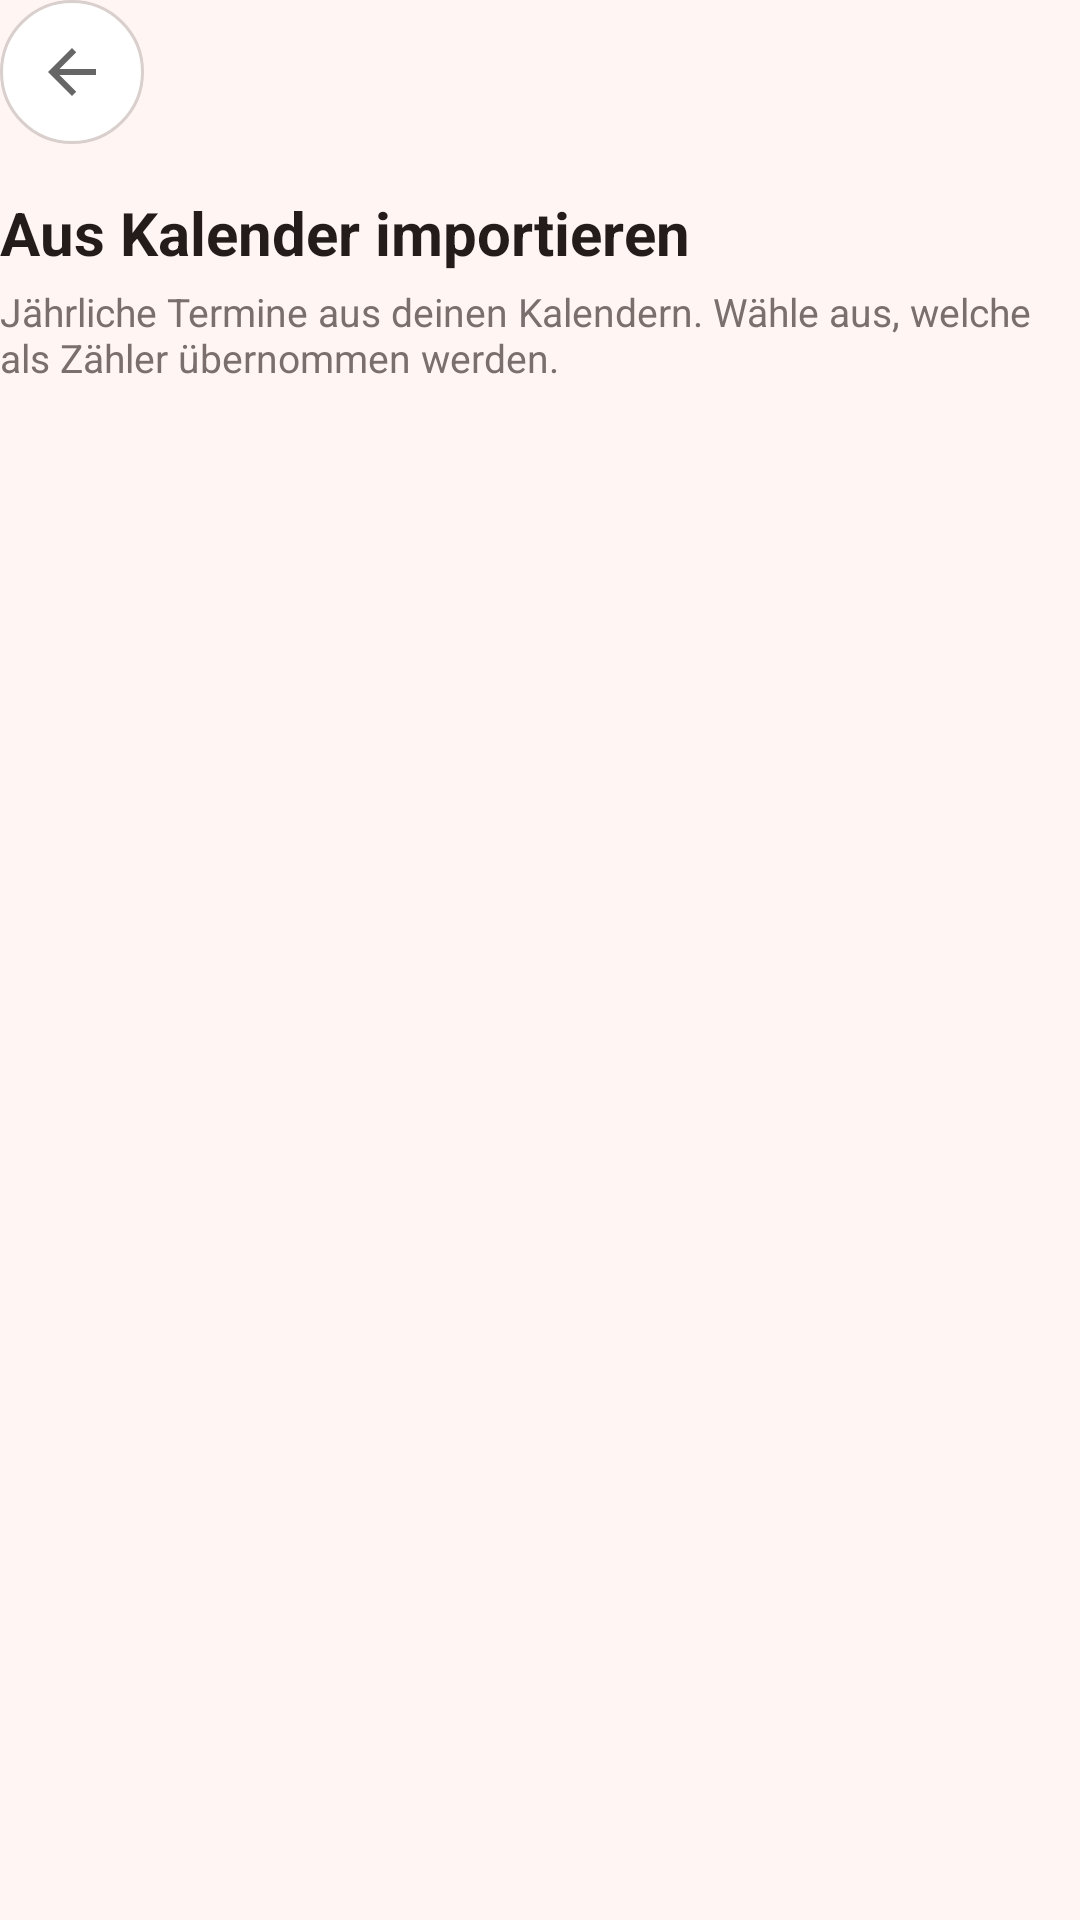

Screen size 1080px×1920px. Icon name, then its box in pixels as (x1, y1, x2, y2):
Zurück: (0, 0, 144, 144)
